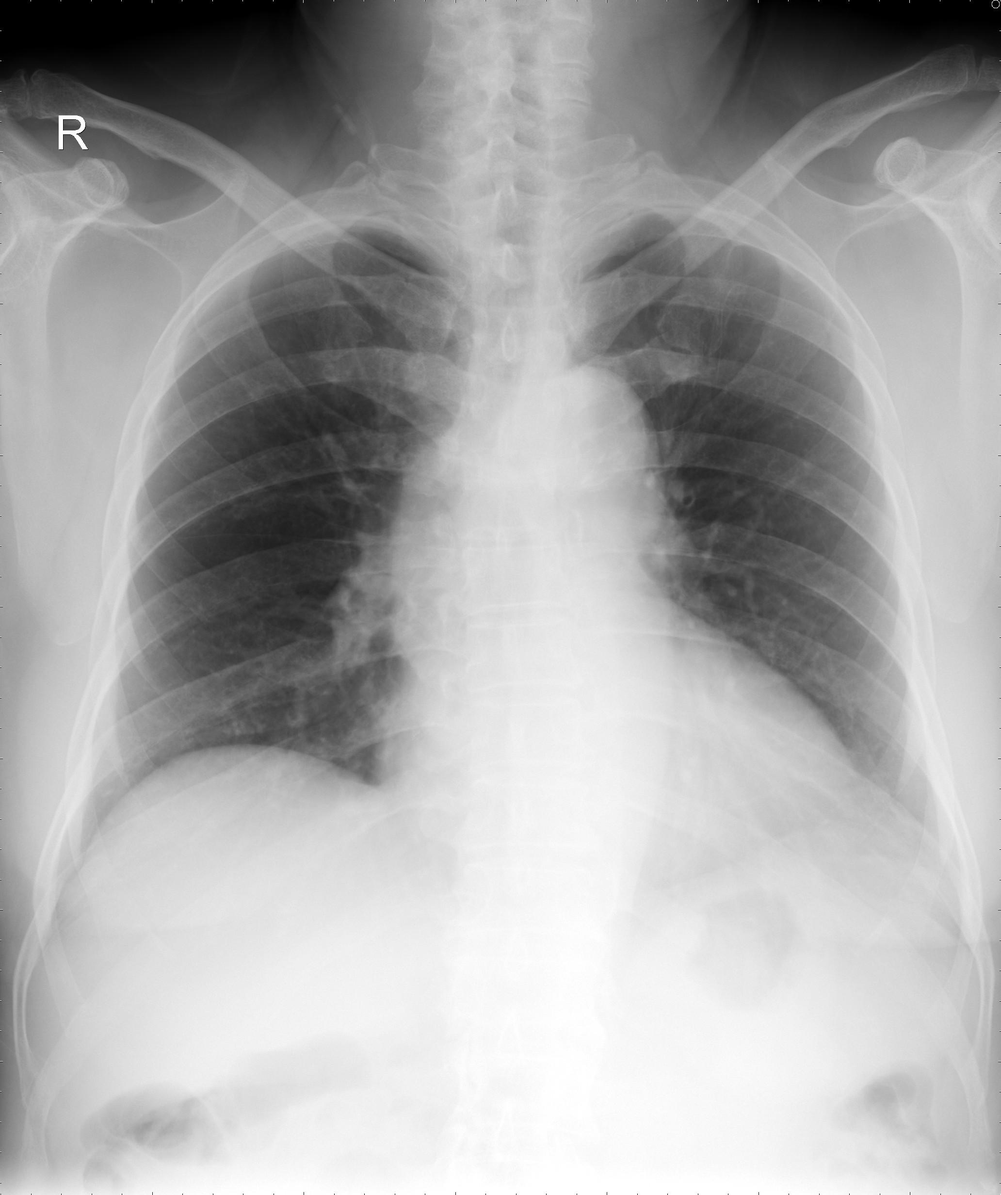Aortic enlargement: (401, 372, 660, 578)
Cardiomegaly: (377, 710, 863, 814)
